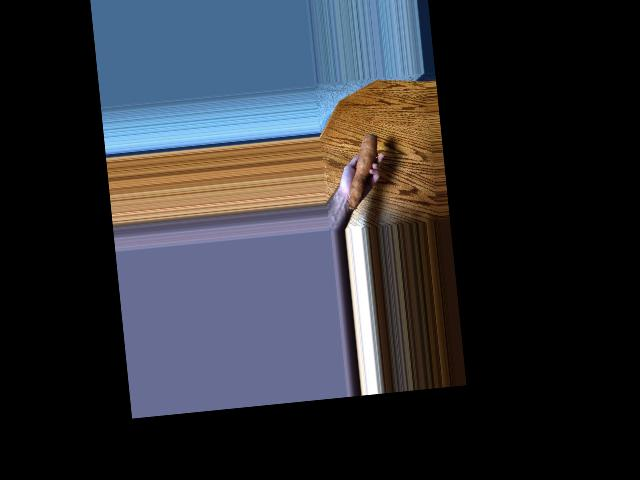sweet_potato: (339, 132, 385, 212)
